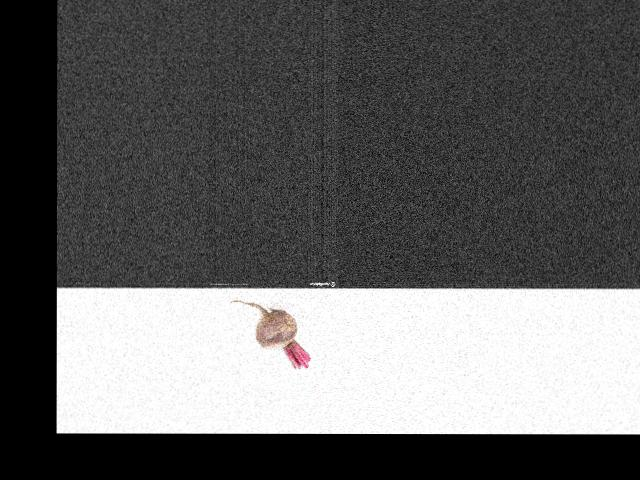beet: (230, 299, 310, 368)
